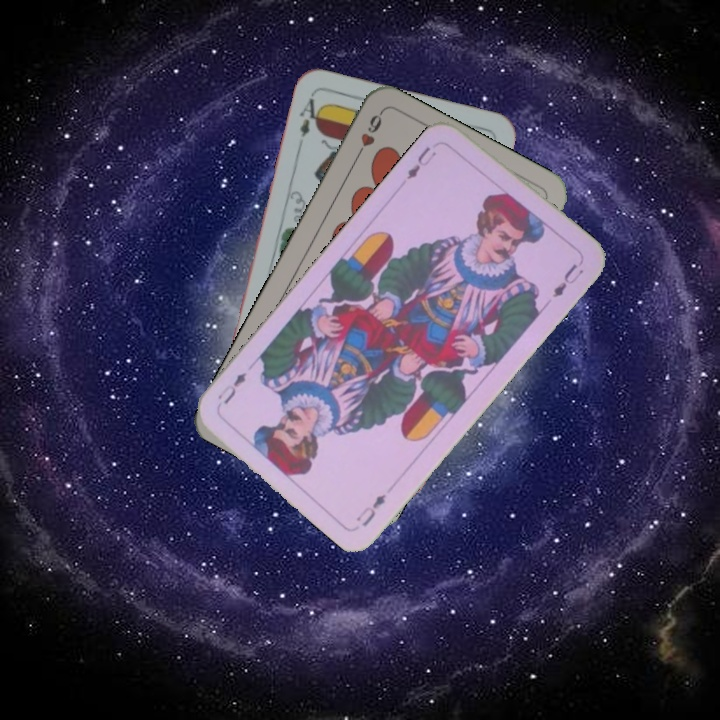EA: (295, 94, 324, 139)
EU: (402, 142, 439, 183), (352, 489, 389, 530)
H9: (351, 108, 385, 162)
